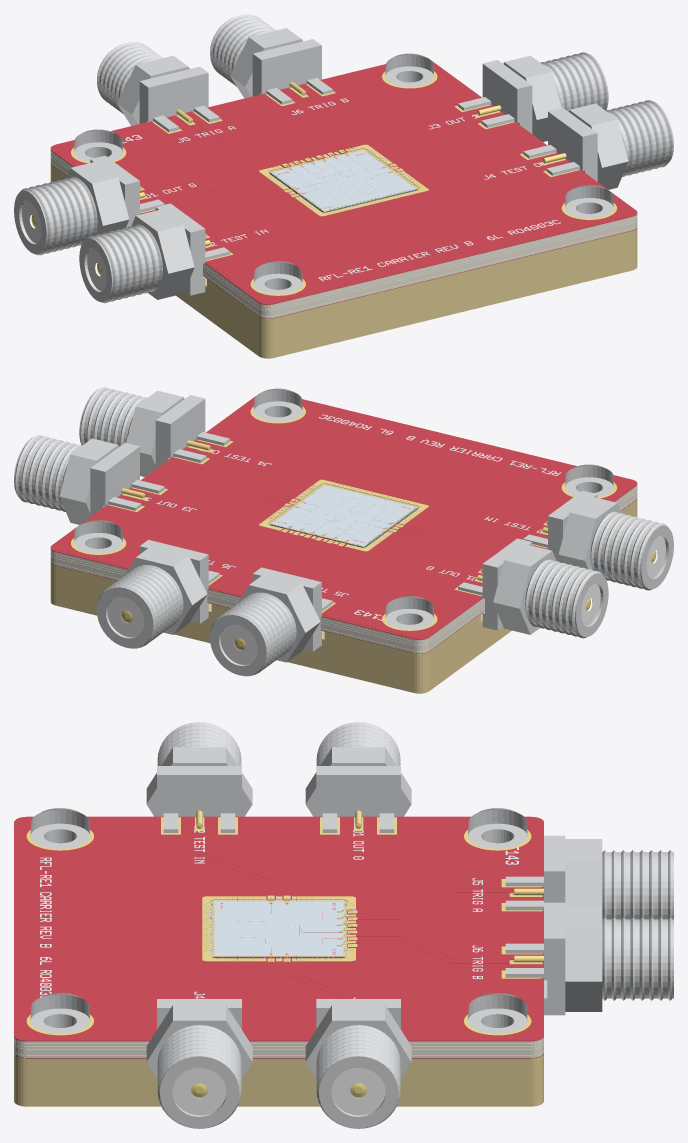
Rendered from assembly.glb.
3 renders of one model, top to bottom at view 1: azimuth 30°, elevation 25°; view 2: azimuth 150°, elevation 25°; view 3: azimuth 270°, elevation 25°, orthographic. The views are drawn at different scales.
Parts seen in each view (by area): view 1: F.Mask_over_Cu, sma_connectors, package_base, F.Mask, screws, die_ILD1_SiO2, F.ENIG, diel4, F.Silk, diel1, diel5, diel2 (+3 smaller); view 2: F.Mask_over_Cu, sma_connectors, package_base, F.Mask, screws, die_ILD1_SiO2, connector_ptfe, F.ENIG, diel4, F.Silk, diel1, diel2 (+3 smaller); view 3: F.Mask_over_Cu, sma_connectors, package_base, F.Mask, screws, die_ILD1_SiO2, F.ENIG, connector_ptfe, diel4, F.Silk, diel1, diel2 (+3 smaller).
Boxes of the visible parts, x1=… form: F.Mask_over_Cu: x1=54, y1=65, x2=633, y2=302; sma_connectors: x1=14, y1=14, x2=673, y2=303; package_base: x1=50, y1=164, x2=637, y2=358; F.Mask: x1=50, y1=60, x2=637, y2=304; screws: x1=74, y1=53, x2=613, y2=294; die_ILD1_SiO2: x1=270, y1=149, x2=417, y2=211; F.ENIG: x1=71, y1=71, x2=616, y2=295; diel4: x1=50, y1=156, x2=637, y2=316; F.Silk: x1=122, y1=98, x2=560, y2=281; diel1: x1=50, y1=84, x2=637, y2=306; diel5: x1=50, y1=161, x2=637, y2=318; diel2: x1=50, y1=152, x2=637, y2=308; F.Mask_over_Cu: x1=54, y1=400, x2=633, y2=637; sma_connectors: x1=14, y1=387, x2=673, y2=676; package_base: x1=50, y1=499, x2=637, y2=693; F.Mask: x1=50, y1=396, x2=637, y2=639; screws: x1=74, y1=388, x2=613, y2=629; die_ILD1_SiO2: x1=270, y1=484, x2=417, y2=546; connector_ptfe: x1=107, y1=535, x2=665, y2=664; F.ENIG: x1=71, y1=406, x2=616, y2=630; diel4: x1=50, y1=491, x2=637, y2=651; F.Silk: x1=144, y1=414, x2=561, y2=620; diel1: x1=50, y1=439, x2=637, y2=641; diel2: x1=50, y1=487, x2=637, y2=643; F.Mask_over_Cu: x1=18, y1=818, x2=539, y2=1038; sma_connectors: x1=146, y1=722, x2=673, y2=1128; package_base: x1=14, y1=907, x2=543, y2=1106; F.Mask: x1=14, y1=816, x2=543, y2=1041; screws: x1=30, y1=808, x2=527, y2=1033; die_ILD1_SiO2: x1=212, y1=900, x2=345, y2=956; F.ENIG: x1=26, y1=817, x2=541, y2=1035; connector_ptfe: x1=172, y1=1067, x2=385, y2=1115; diel4: x1=14, y1=909, x2=543, y2=1055; F.Silk: x1=40, y1=826, x2=518, y2=998; diel1: x1=14, y1=817, x2=543, y2=1043; diel2: x1=14, y1=903, x2=543, y2=1046.
Bounding box in the file's own units: 59.6 × 9.43 × 49.8.
